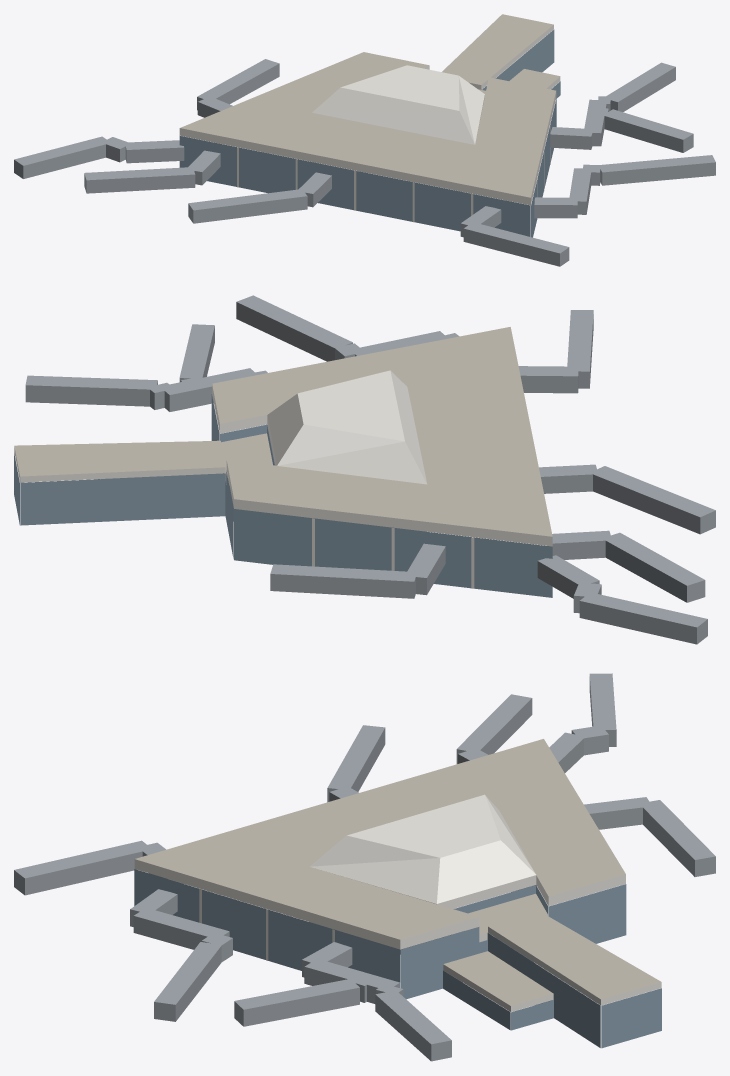
Rendered from paris-cdg-terminal-1-satellite-z.glb.
3 views of the same model, one above another, from view 1: azimuth 30°, elevation 25°; view 2: azimuth 150°, elevation 25°; view 3: azimuth 270°, elevation 25° (orthographic). The views are drawn at different scales.
Parts seen in each view (by area): view 1: Paris-CDG Terminal 1 Satellite Z; view 2: Paris-CDG Terminal 1 Satellite Z; view 3: Paris-CDG Terminal 1 Satellite Z.
Boxes of the visible parts, <box> form: Paris-CDG Terminal 1 Satellite Z: <box>14,14,715,266</box>; Paris-CDG Terminal 1 Satellite Z: <box>14,295,715,644</box>; Paris-CDG Terminal 1 Satellite Z: <box>14,673,715,1061</box>.
Size of the model in its own units: 130 by 15 by 104.
